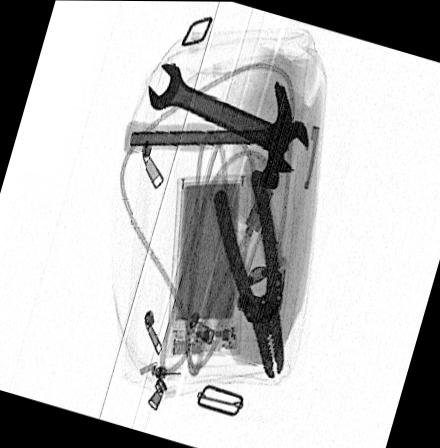Hammer: (124, 79, 293, 188)
Pliers: (214, 163, 284, 377)
Powerbank: (163, 173, 257, 355)
Wrench: (148, 61, 308, 174)
